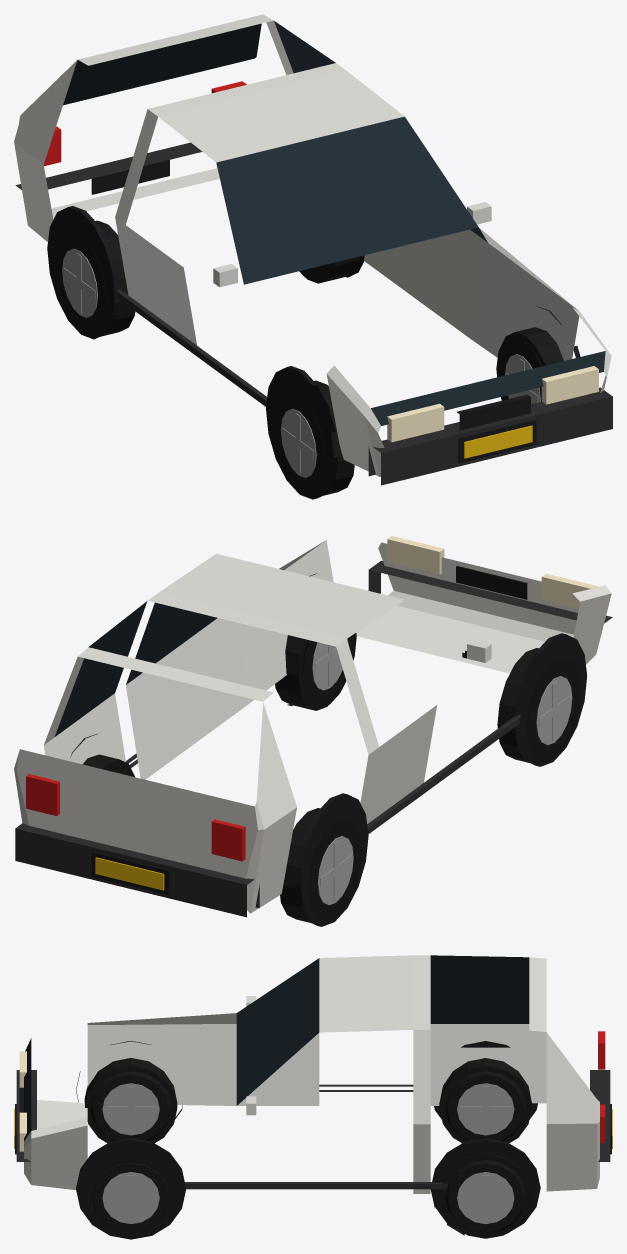
Rendered from taxi.glb.
3 views of the same model, one above another, from view 1: azimuth 30°, elevation 25°; view 2: azimuth 150°, elevation 25°; view 3: azimuth 270°, elevation 25° (orthographic). The views are drawn at different scales.
Parts seen in each view (by area): view 1: body, wheel_rr, wheel_fr, wheel_fl, wheel_rl; view 2: body, wheel_rr, wheel_fr, wheel_fl, wheel_rl; view 3: body, wheel_fr, wheel_rr, wheel_rl, wheel_fl.
Boxes of the visible parts, x1,y1,x2,y2 form: body: (14, 14, 612, 499); wheel_rr: (53, 220, 135, 336); wheel_fr: (272, 380, 354, 495); wheel_fl: (496, 327, 563, 404); wheel_rl: (299, 256, 359, 283); body: (14, 536, 612, 926); wheel_rr: (280, 808, 362, 922); wheel_fr: (497, 648, 580, 762); wheel_fl: (275, 633, 356, 710); wheel_rl: (82, 754, 134, 776); body: (14, 955, 612, 1239); wheel_fr: (84, 1058, 177, 1143); wheel_rr: (439, 1058, 531, 1143); wheel_rl: (439, 1154, 531, 1238); wheel_fl: (92, 1162, 169, 1232).
Size of the model in its own units: 1.76 by 1.5 by 4.14.
